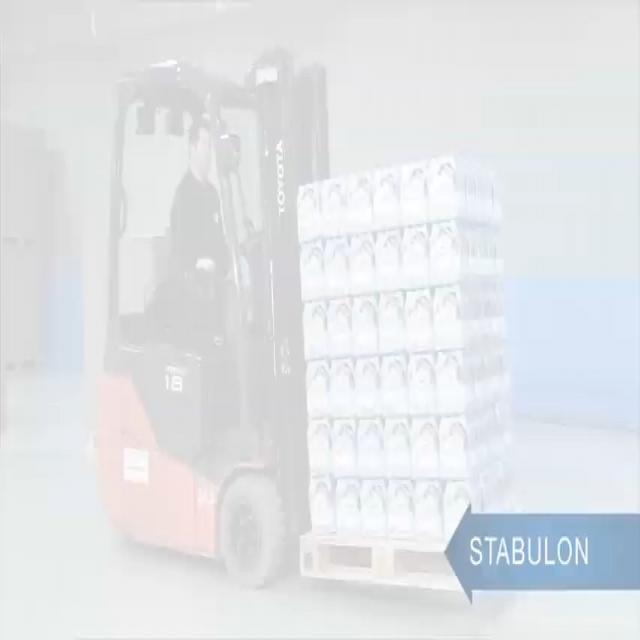Chariot elevateur: (82, 42, 328, 594)
Palette: (295, 526, 462, 614)
